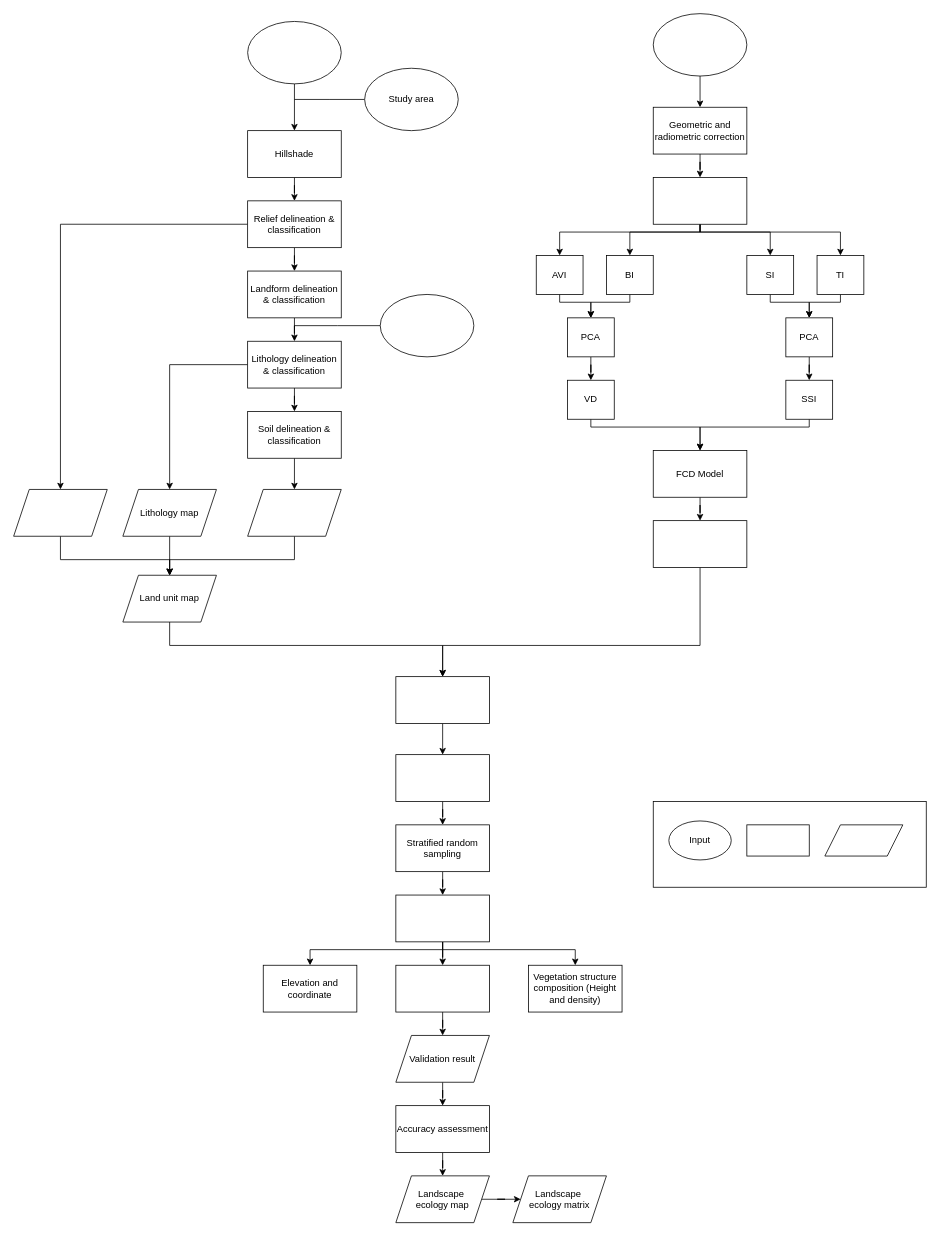
Some shapes in this 940 by 1236 pixel diagram are drawn without their labels. The shapes that lost their labels are listed below. From the top down, each one's centre as x and y in pixels, then its label:
point (294, 52): SRTM DEM
point (699, 44): Landsat 8
point (699, 200): Topographic correction
point (426, 325): Indonesia geology map
point (60, 512): Relief map
point (294, 512): Soil Map
point (699, 543): Raster to vector
point (442, 699): Overlay
point (442, 777): Tentative map
point (777, 840): Process
point (863, 840): Output
point (442, 918): Field validation
point (442, 988): Soil characteristics (Texture, color, pH, and organic matter)
